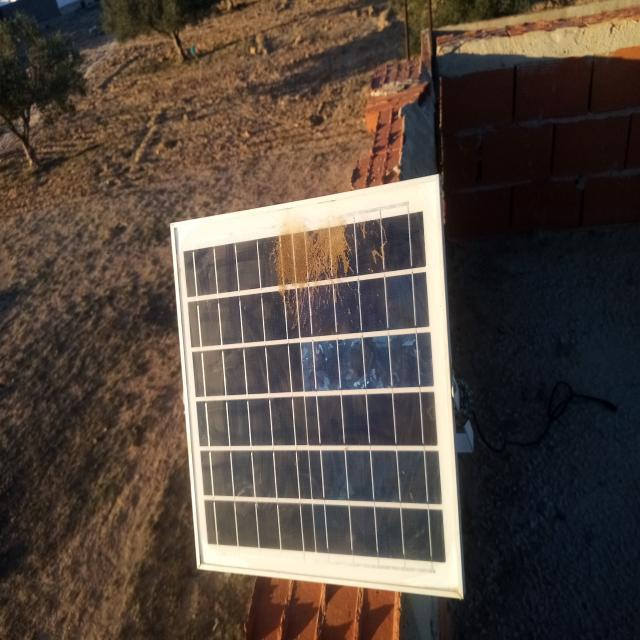faulty: (175, 176, 462, 597)
